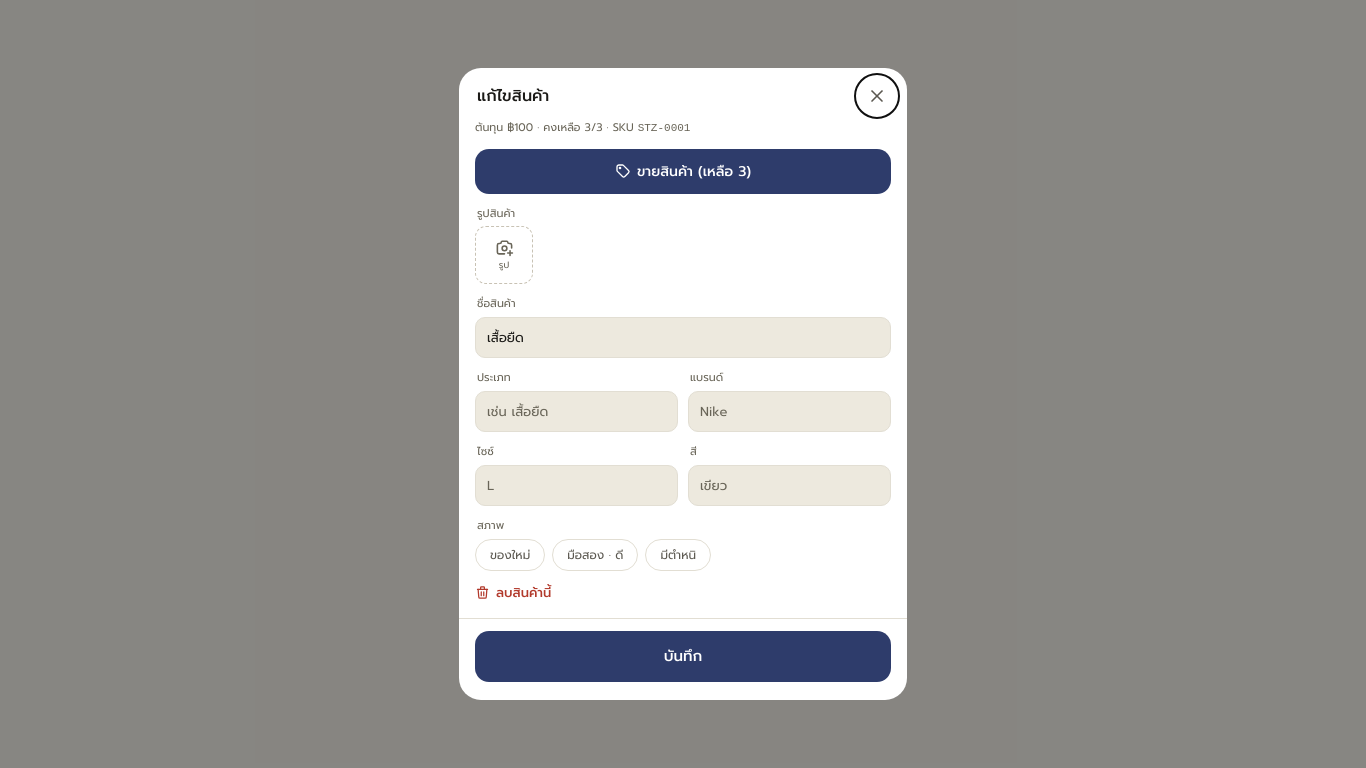
StockEditSheet — post-sale shipping nudge › shows the nudge after a successful sale when a shop income category exists
The image size is (1366, 768).
Click the button "ขายสินค้า (เหลือ 3)": coordinates (683, 171) [475,149,891,194]
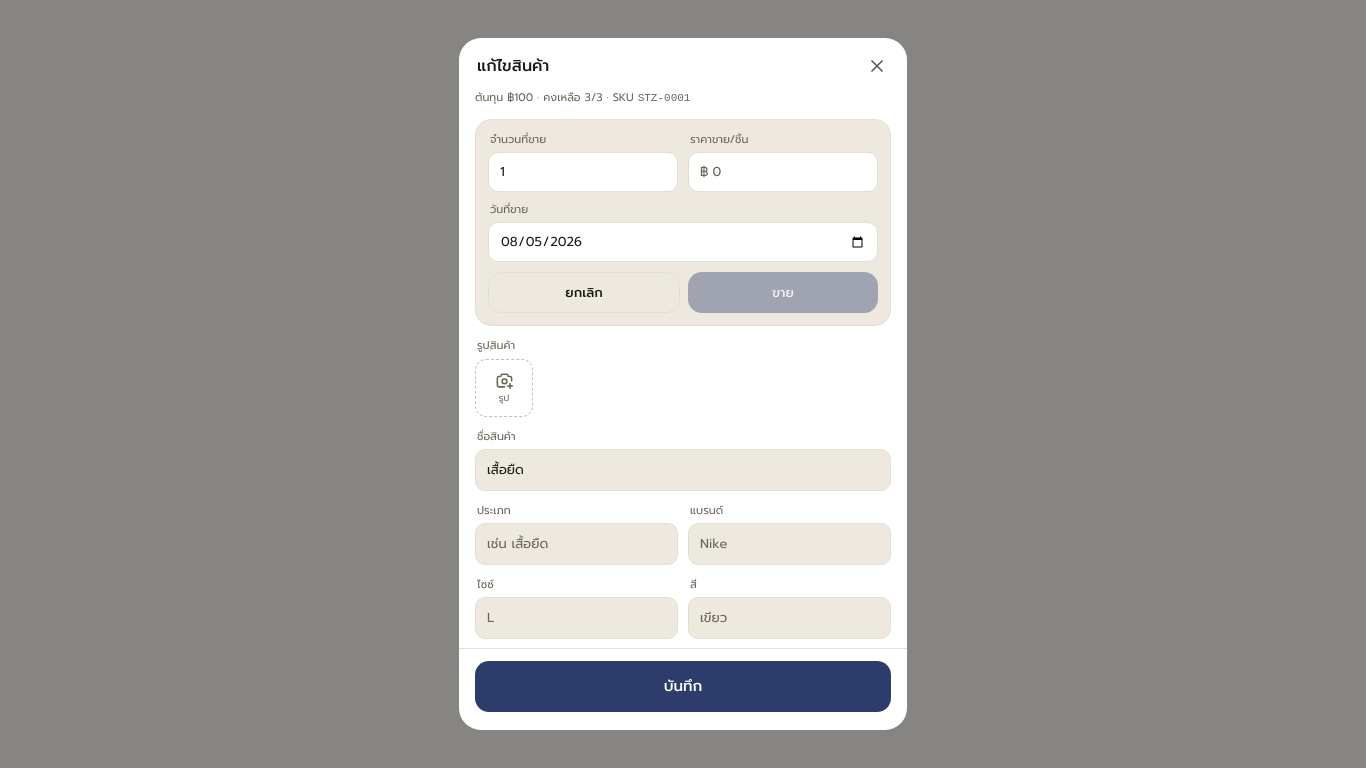
In the field with placeholder "0": coordinates (789, 172) [712,162,866,182], type "500"
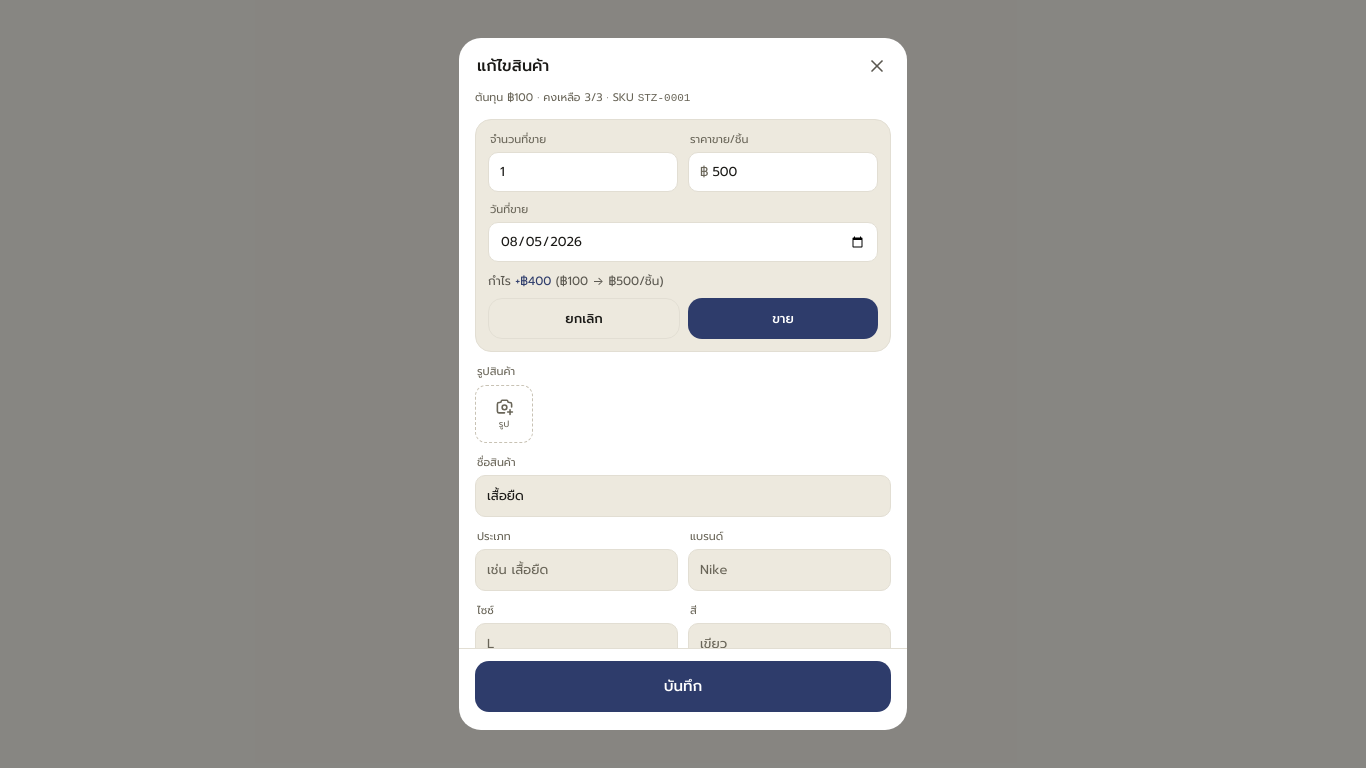
Click the button "ขาย": coordinates (783, 319) [688,298,878,339]
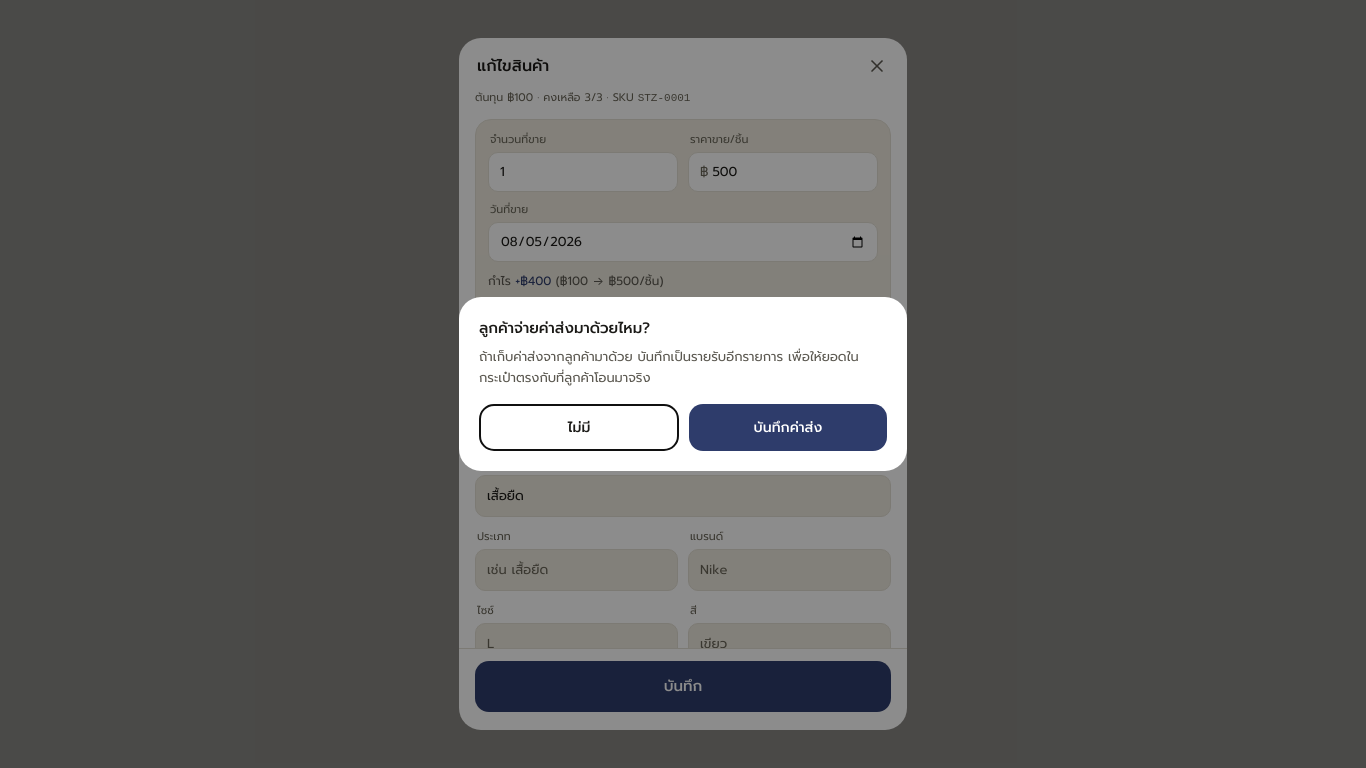
Check: the text "ลูกค้าจ่ายค่าส่งมาด้วยไหม?" is shown, box [479,317,650,339]
